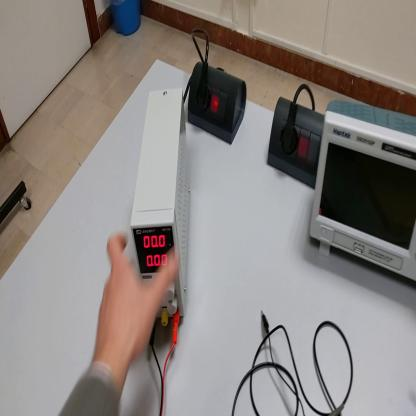hand: (93, 230, 180, 362)
oscilloscope: (309, 97, 416, 286)
power supply: (132, 90, 195, 333)
socket: (267, 95, 326, 192), (186, 62, 250, 149)
